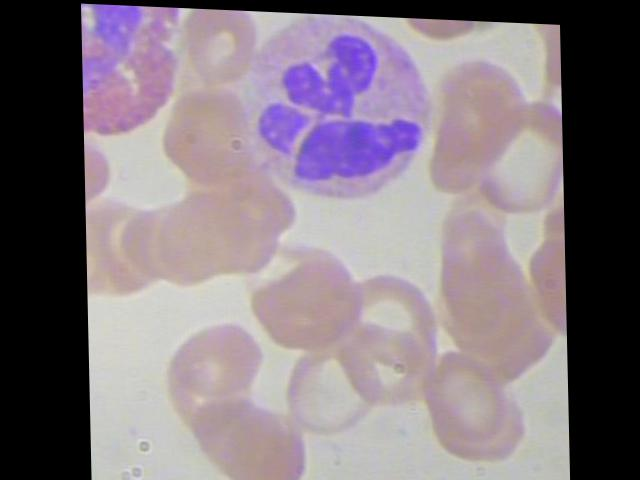Red Blood Cells: (240, 242, 370, 363), (464, 93, 563, 221), (158, 76, 258, 193), (280, 332, 385, 443), (166, 308, 267, 410), (423, 337, 512, 442), (181, 6, 265, 90)
White Blood Cells: (243, 8, 441, 216), (81, 3, 182, 150)
